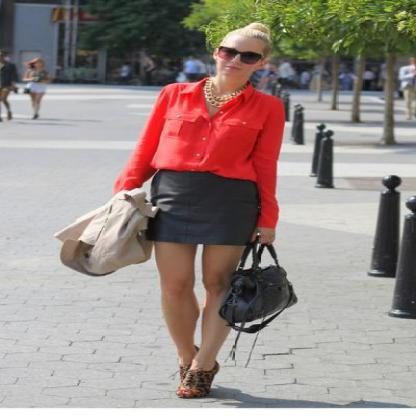bag: (218, 258, 296, 339)
shirt: (114, 75, 284, 228)
shoe: (170, 358, 218, 398)
skirt: (140, 170, 261, 258)
sunglass: (237, 51, 261, 64)
